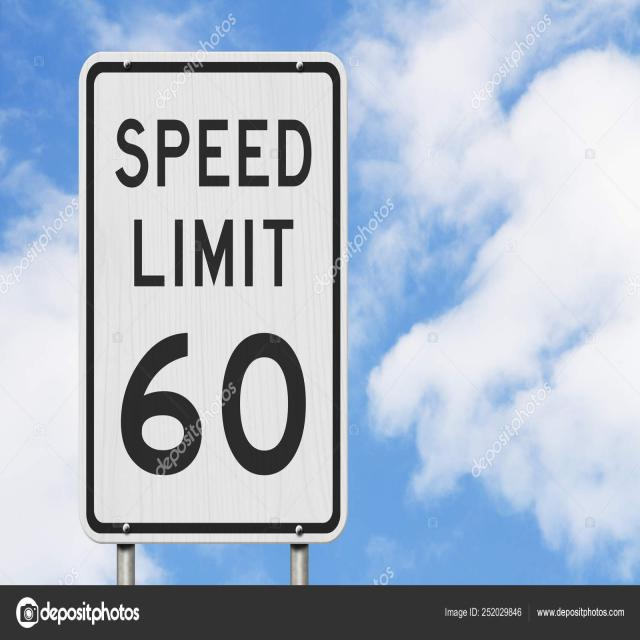speedLimit60: (69, 40, 352, 559)
